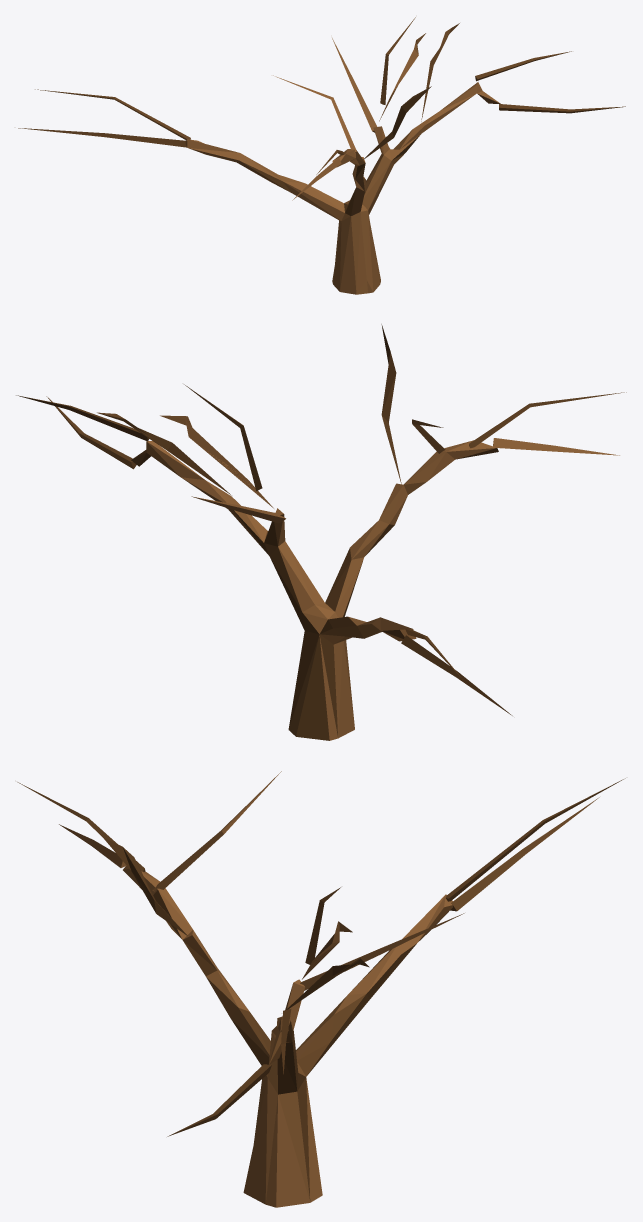
Rendered from guayacan_4_bare_far.glb.
3 renders of one model, top to bottom at view 1: azimuth 30°, elevation 25°; view 2: azimuth 150°, elevation 25°; view 3: azimuth 270°, elevation 25°, orthographic. The views are drawn at different scales.
Parts seen in each view (by area): view 1: guayacan_4_bare_far; view 2: guayacan_4_bare_far; view 3: guayacan_4_bare_far.
Part boxes in pixels (<box>): guayacan_4_bare_far: <box>18,17,625,294</box>; guayacan_4_bare_far: <box>16,324,626,740</box>; guayacan_4_bare_far: <box>17,771,625,1207</box>.
Size of the model in its own units: 11.1 by 5.33 by 8.1.
